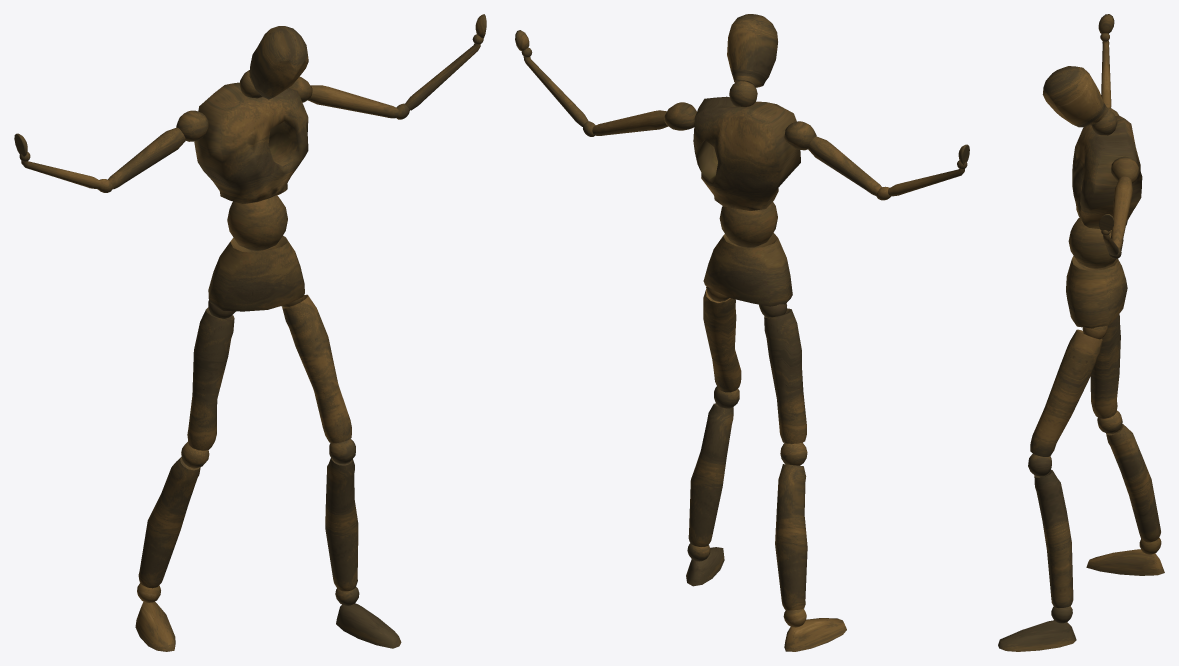
File: maniqui_pose6.fbx
3 views of the same model, side by side, from view 1: azimuth 30°, elevation 25°; view 2: azimuth 150°, elevation 25°; view 3: azimuth 270°, elevation 25° (orthographic). The views are drawn at different scales.
Parts seen in each view (by area): view 1: dummy_obj.003; view 2: dummy_obj.003; view 3: dummy_obj.003.
Part boxes in pixels (<box>): dummy_obj.003: <box>14,14,486,651</box>; dummy_obj.003: <box>515,14,969,651</box>; dummy_obj.003: <box>998,14,1164,651</box>.
Bounding box in the file's own units: 150 × 186 × 51.47.
